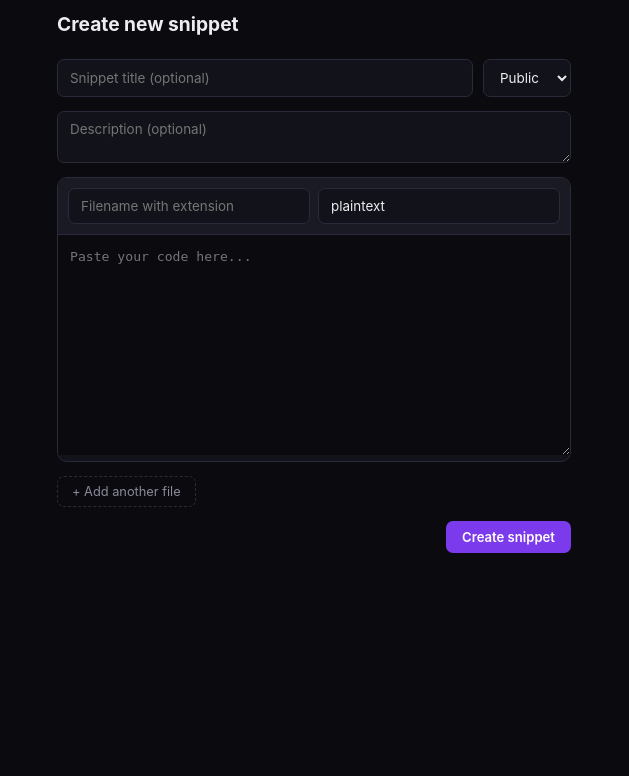
it: CreateSnippet Component › adds and removes file blocks
Check: the number of fields with placeholder "Filename with extension" is 1, box [68,188,310,224]
Click the button "+ Add another file". click: [126, 492]
box: [57,476,196,507]
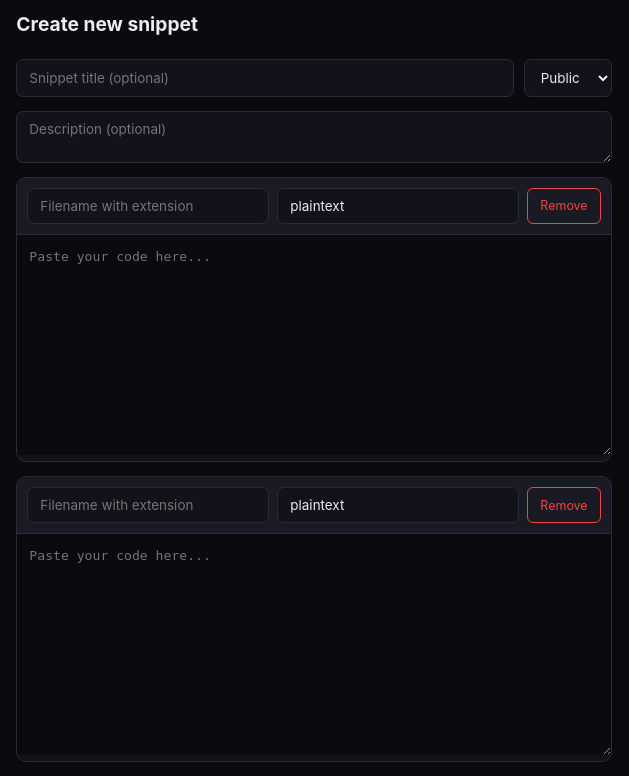
Check: the number of fields with placeholder "Filename with extension" is 2, box [27,188,269,224]; [27,487,269,523]
Click the 1st button "Remove". click: [564, 206]
box: [527,188,601,224]
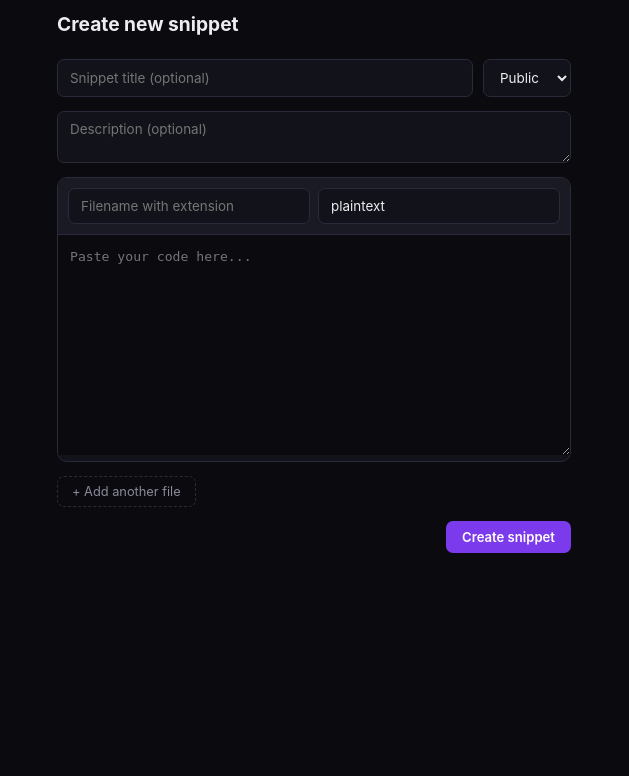
Check: the number of fields with placeholder "Filename with extension" is 1, box [68,188,310,224]
